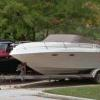Boat: (7, 25, 100, 81)
